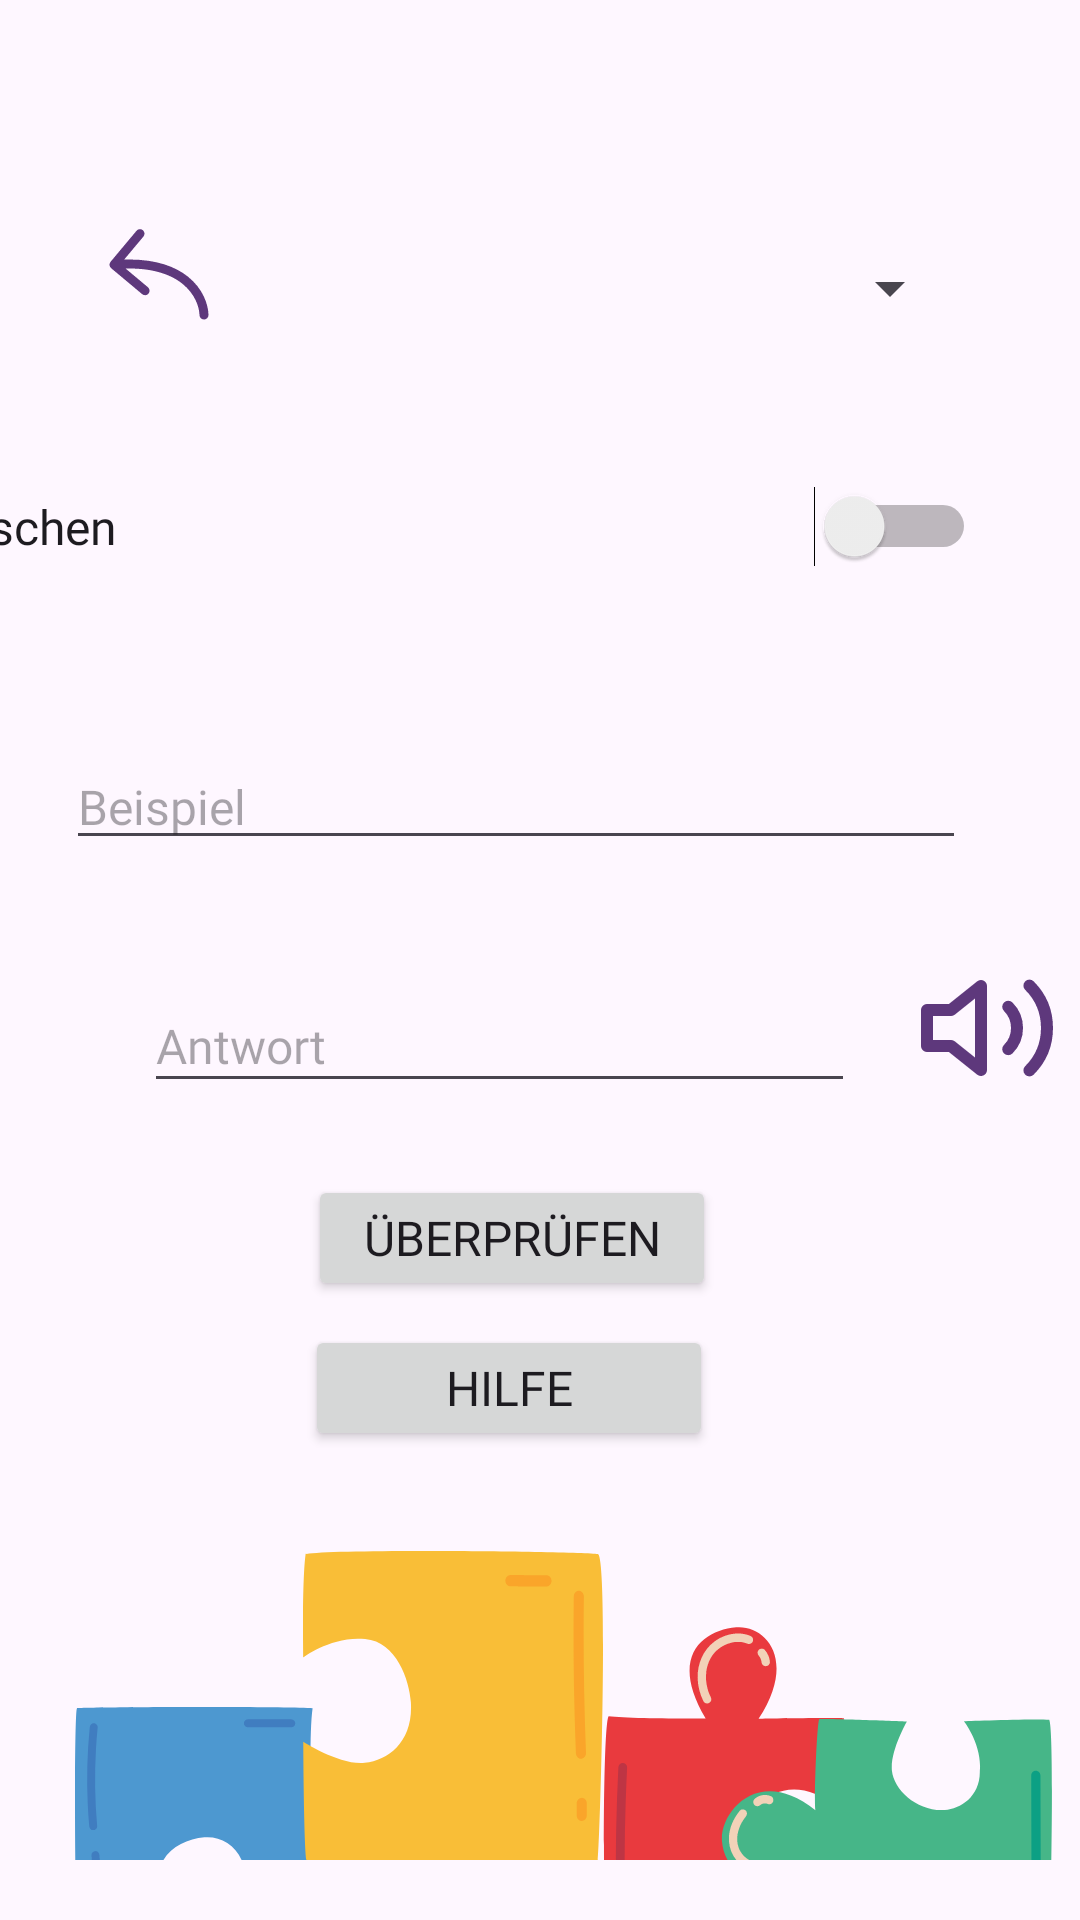

Icon bounding boxes for this 1080 x 1920 phone screenshot, format box=[x1, y1, x2, y2]:
back: box=[109, 229, 209, 320]
group sound: box=[921, 979, 1053, 1077]
